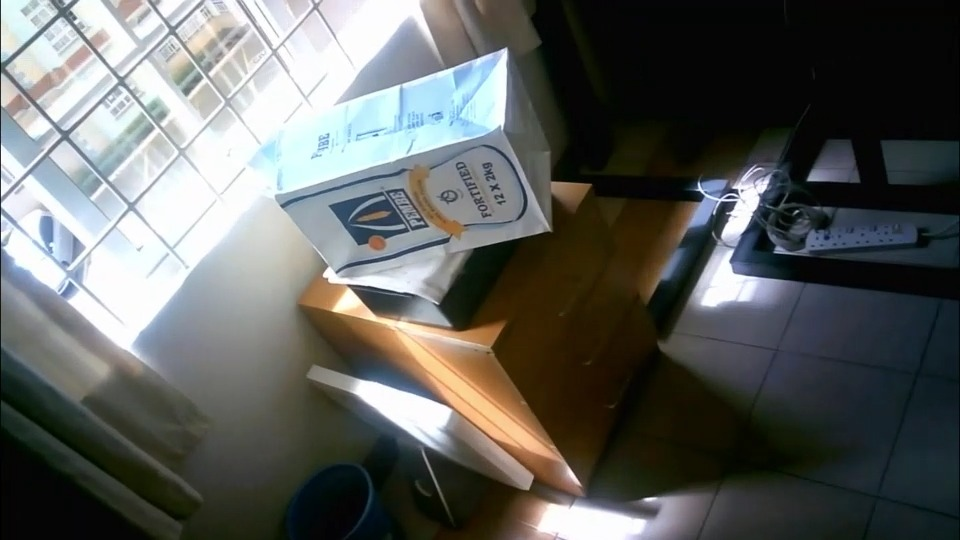wheat_flour_blue_label: (275, 50, 550, 275)
